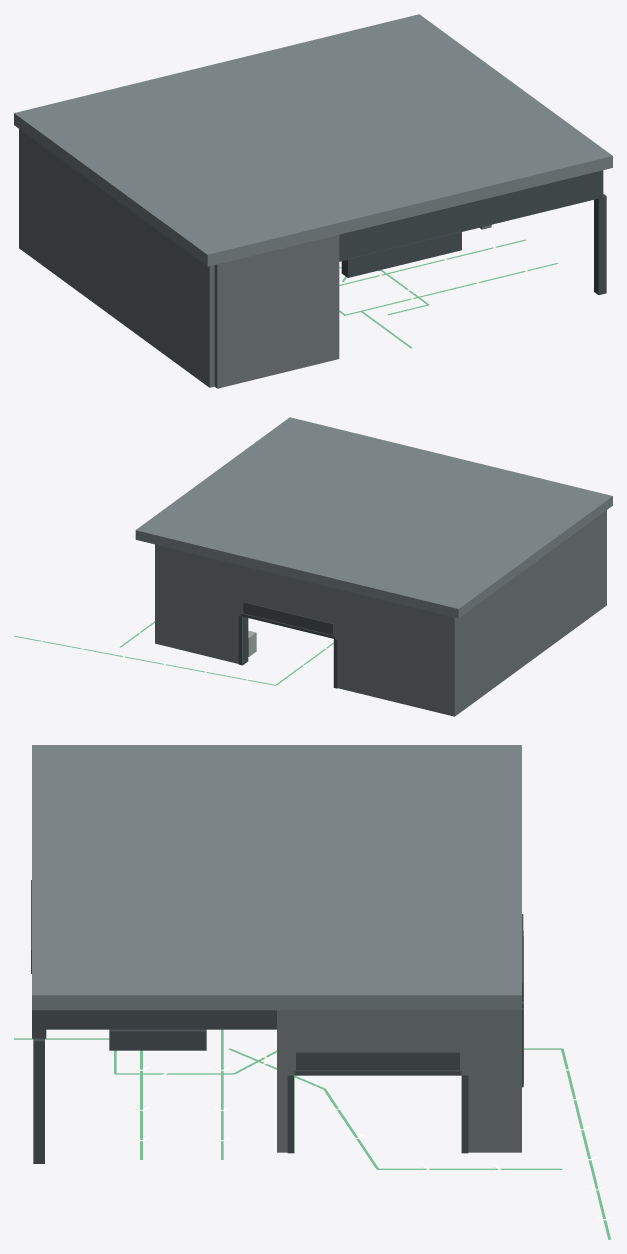
File: west-triage-build84.glb
3 renders of one model, top to bottom at view 1: azimuth 30°, elevation 25°; view 2: azimuth 150°, elevation 25°; view 3: azimuth 270°, elevation 25°, orthographic. The views are drawn at different scales.
Visible parts, largest first — view 1: west-triage-build84; view 2: west-triage-build84; view 3: west-triage-build84.
Boxes of the visible parts, box(x1,y1,x2,y2) form: west-triage-build84: box(14, 14, 612, 388); west-triage-build84: box(14, 417, 612, 716); west-triage-build84: box(14, 745, 612, 1239).
Size of the model in its own units: 32.11 by 8 by 25.19.
